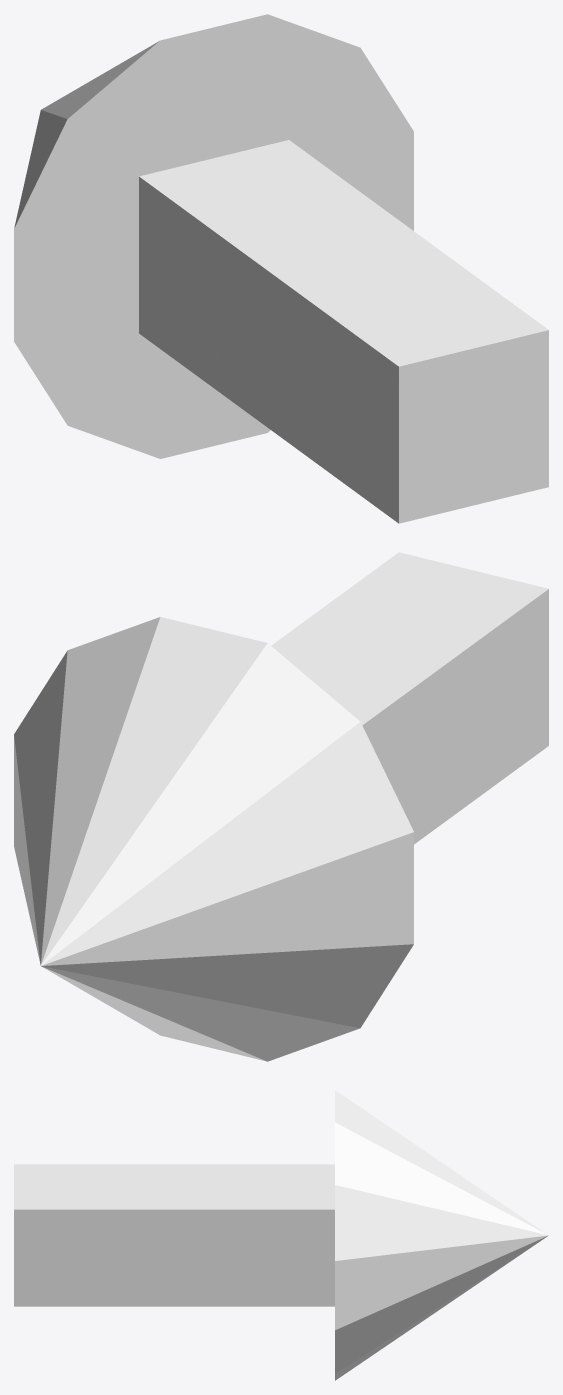
File: arrow2.fbx
The picture shows the model from 3 angles, top to bottom: view 1: azimuth 30°, elevation 25°; view 2: azimuth 150°, elevation 25°; view 3: azimuth 270°, elevation 25°; orthographic projection. The views are drawn at different scales.
Visible parts, largest first — view 1: cone; view 2: cone; view 3: cone.
Boxes of the visible parts, box(x1,y1,x2,y2) form: cone: box(14, 14, 548, 523); cone: box(14, 552, 548, 1061); cone: box(14, 1090, 548, 1380).
Bounding box in the file's own units: 50 × 50 × 93.75.
1 material, 1 textured.
